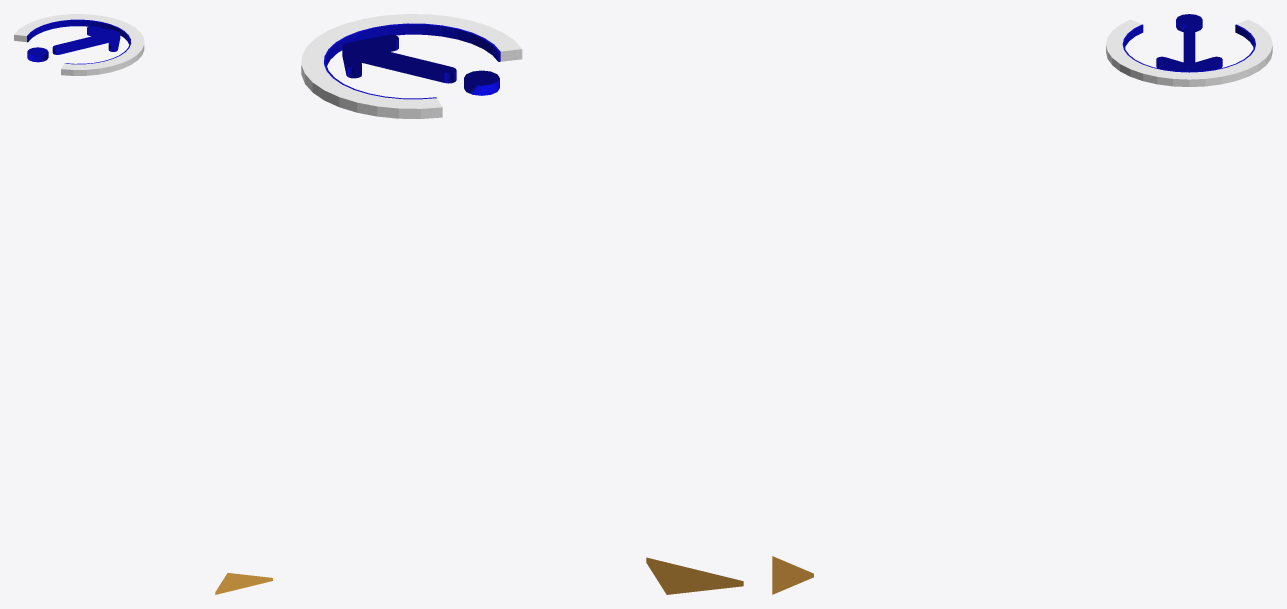
The model's file is From_Conveyor_Process.dae.
3 renders of one model, left to right at view 1: azimuth 30°, elevation 25°; view 2: azimuth 150°, elevation 25°; view 3: azimuth 270°, elevation 25°, orthographic. The views are drawn at different scales.
Visible parts, largest first — view 1: From_Conveyor_Process (×4); view 2: From_Conveyor_Process (×5); view 3: From_Conveyor_Process (×2).
Part boxes in pixels (box(x1,y1,x2,y2)): From_Conveyor_Process (×4): box(14, 14, 272, 594); From_Conveyor_Process (×5): box(301, 14, 743, 594); From_Conveyor_Process (×2): box(772, 19, 1272, 594).
Size of the model in its own units: 186 by 600 by 705.
